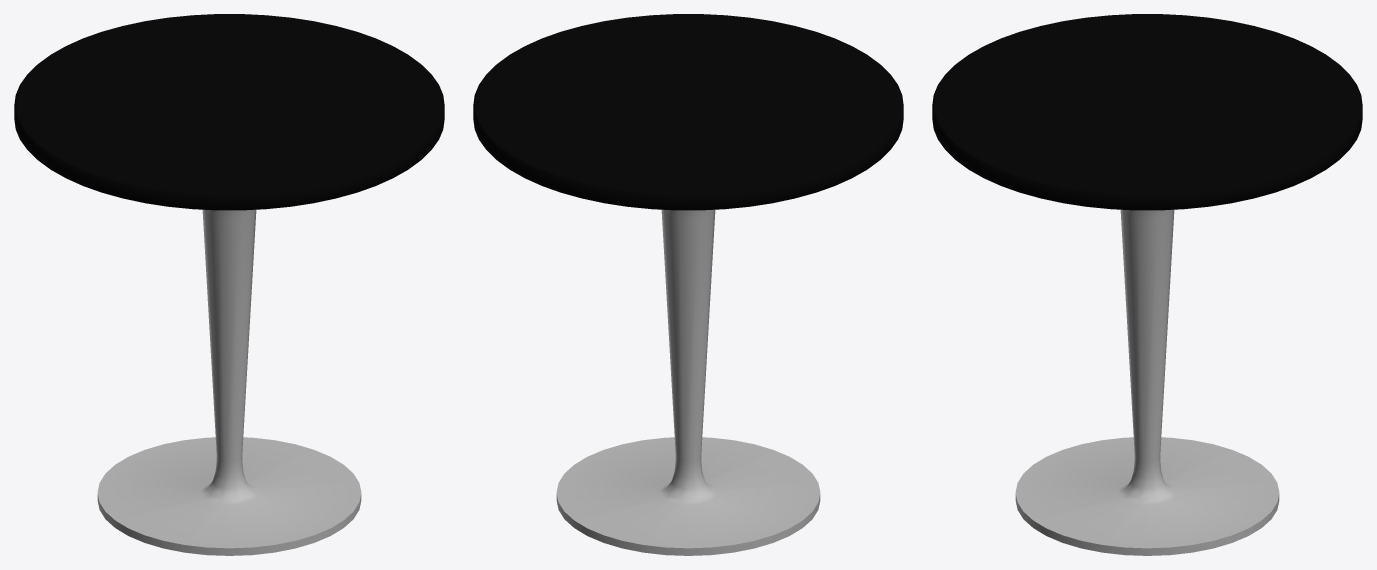
Rendered from table.FBX.
3 renders of one model, left to right at view 1: azimuth 30°, elevation 25°; view 2: azimuth 150°, elevation 25°; view 3: azimuth 270°, elevation 25°, orthographic.
Parts seen in each view (by area): view 1: table; view 2: table; view 3: table.
Boxes of the visible parts, bbox=[...] form: table: bbox=[14, 14, 444, 555]; table: bbox=[473, 14, 903, 555]; table: bbox=[932, 14, 1362, 555].
Bounding box in the file's own units: 0.7846 × 0.7978 × 0.7856.
Materials: 1 (1 with a texture image).
